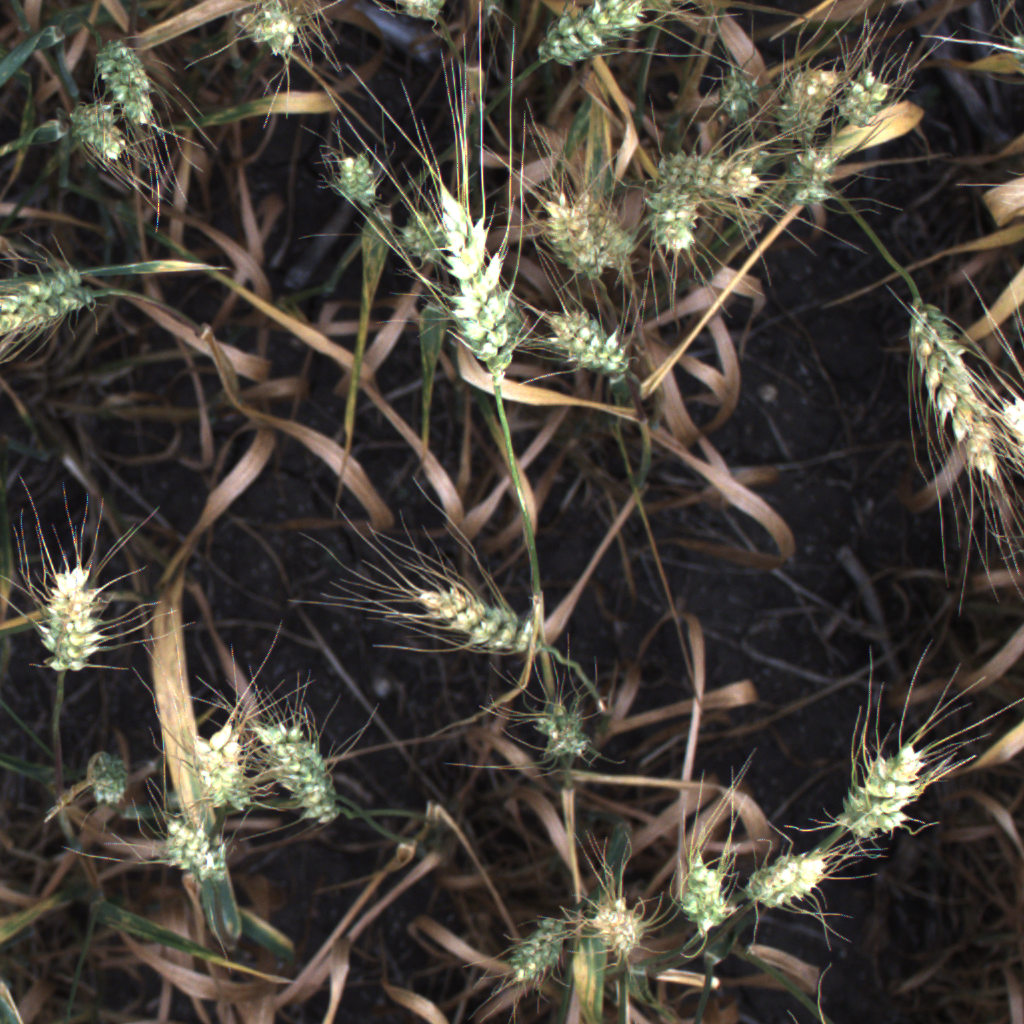wheat_head: (892, 269, 1005, 497), (427, 160, 530, 373), (245, 690, 355, 844), (14, 539, 117, 682), (397, 577, 556, 665), (0, 239, 113, 362), (829, 728, 943, 847), (512, 0, 671, 73), (532, 289, 640, 385), (649, 137, 773, 214), (187, 702, 269, 812), (666, 832, 743, 948), (739, 838, 844, 921), (569, 882, 662, 972), (488, 902, 581, 992), (522, 676, 609, 772), (94, 30, 167, 126), (148, 804, 236, 883), (540, 182, 603, 285), (55, 102, 138, 179), (224, 3, 326, 64), (65, 736, 140, 816), (774, 140, 850, 216), (319, 138, 392, 213), (781, 45, 841, 136), (573, 183, 633, 269), (638, 185, 705, 258), (839, 65, 902, 136), (700, 79, 765, 128), (357, 0, 470, 28), (994, 381, 1024, 481)
